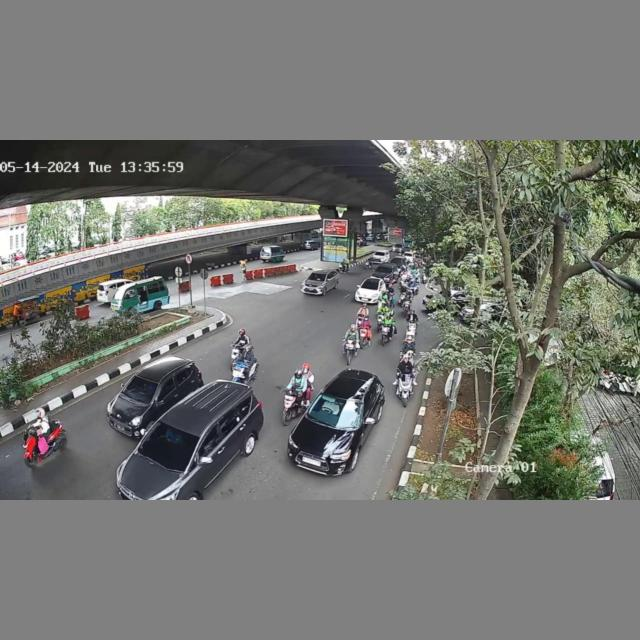windshield: (138, 421, 204, 472), (307, 393, 364, 426), (123, 375, 156, 403)
